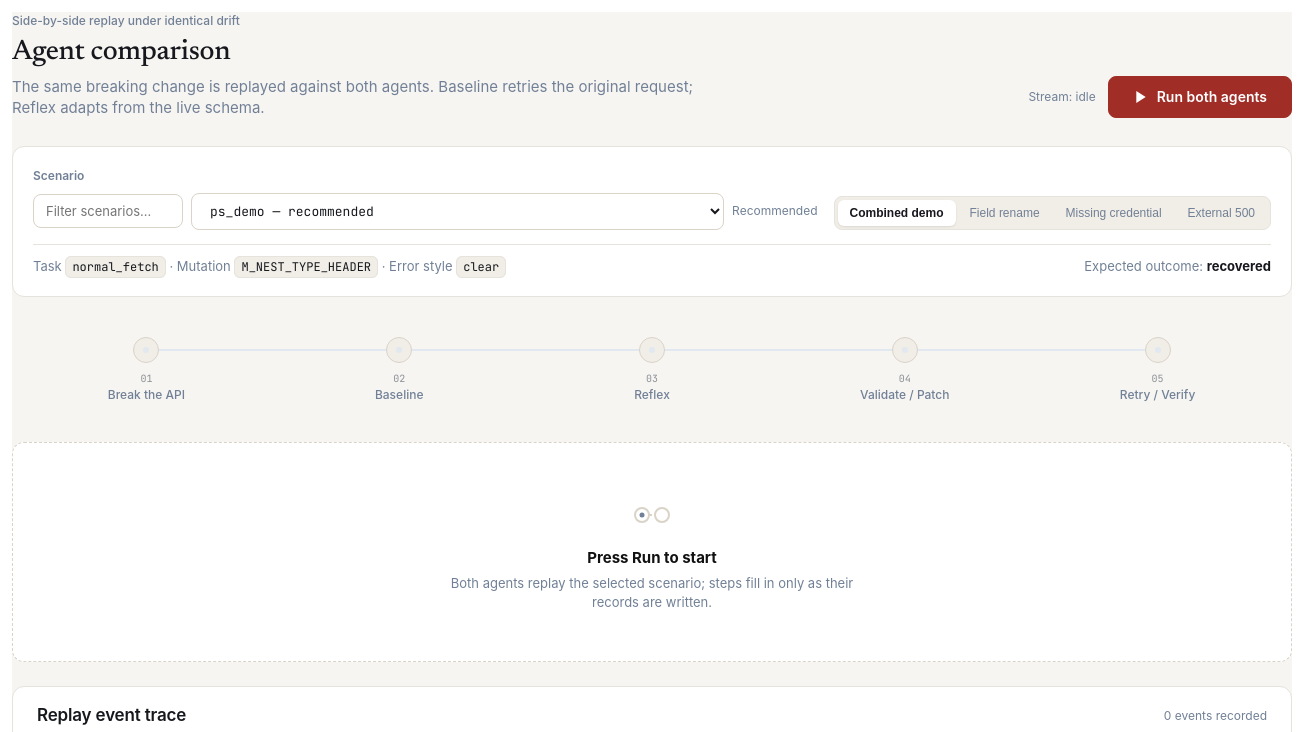
Scenario: Comparison page › a step with no records stays pending even when later steps exist
The width and height of the screenshot is (1304, 732).
Click the button "Run both agents" at [1200, 97], box x1=1108 y1=76 x2=1292 y2=118
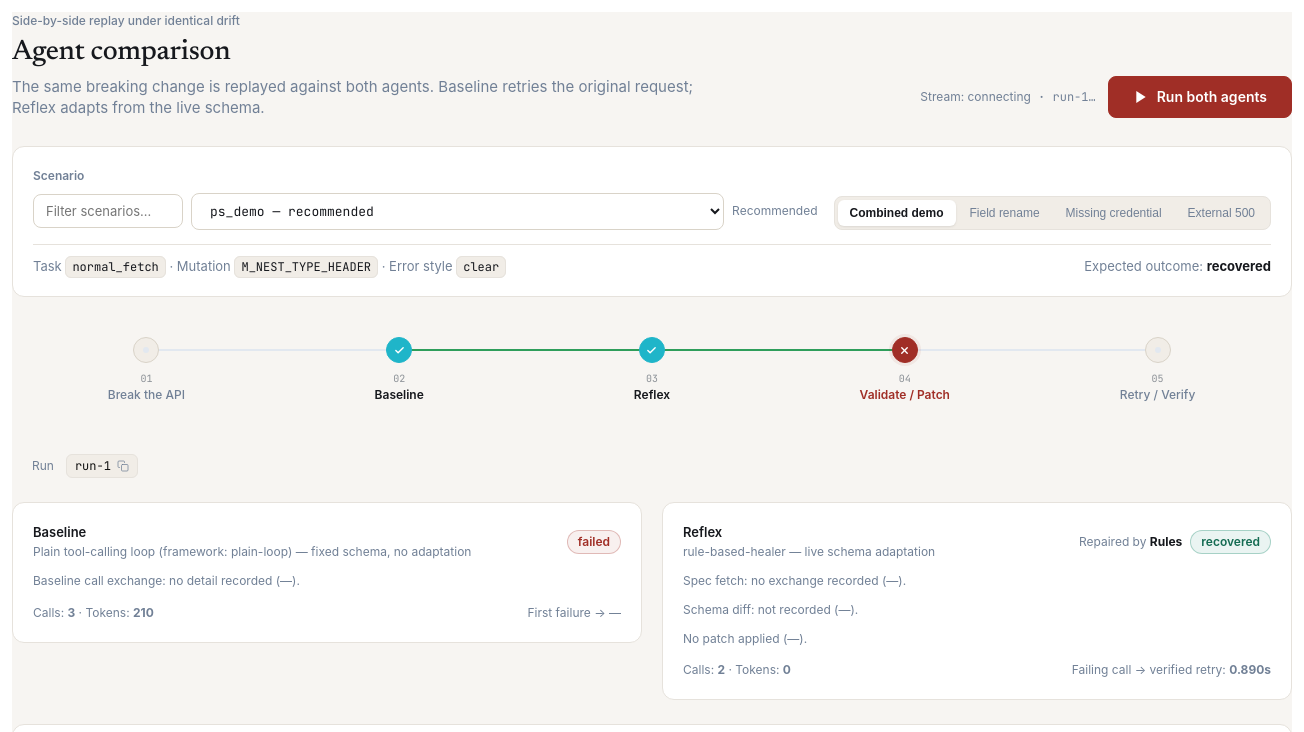
Expected: the element titled "Break the API: pending" is shown, x1=20 y1=337 x2=273 y2=402
Expected: the element titled "Baseline finished" is shown, x1=273 y1=337 x2=526 y2=402
